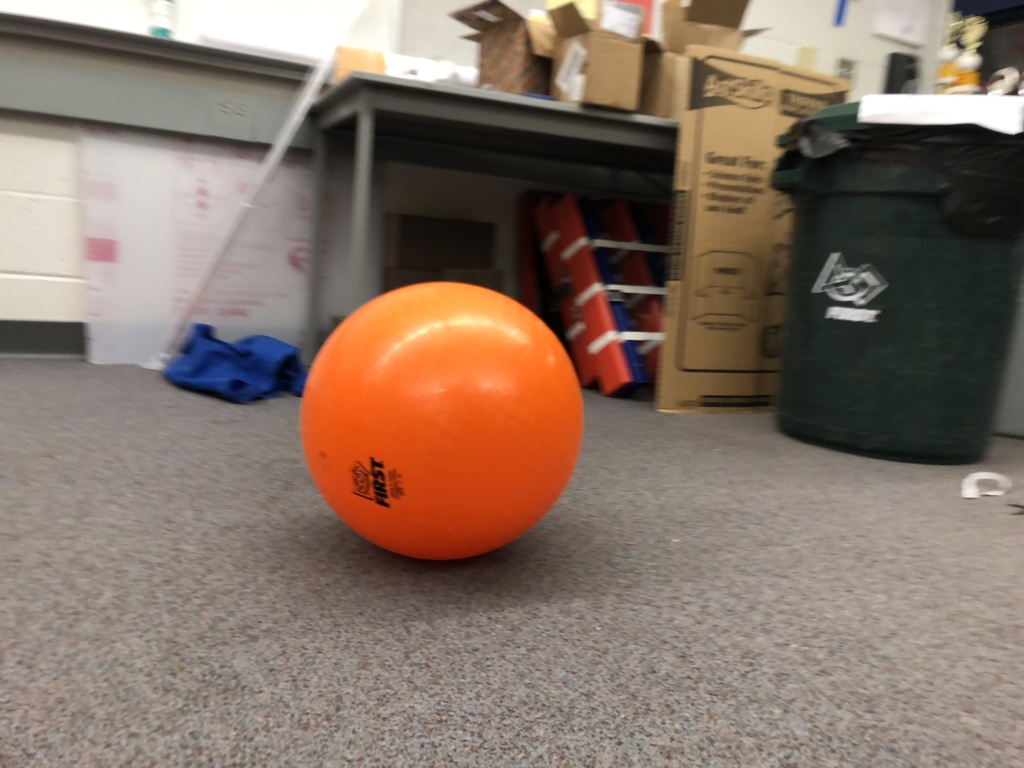cargo: (289, 267, 598, 574)
